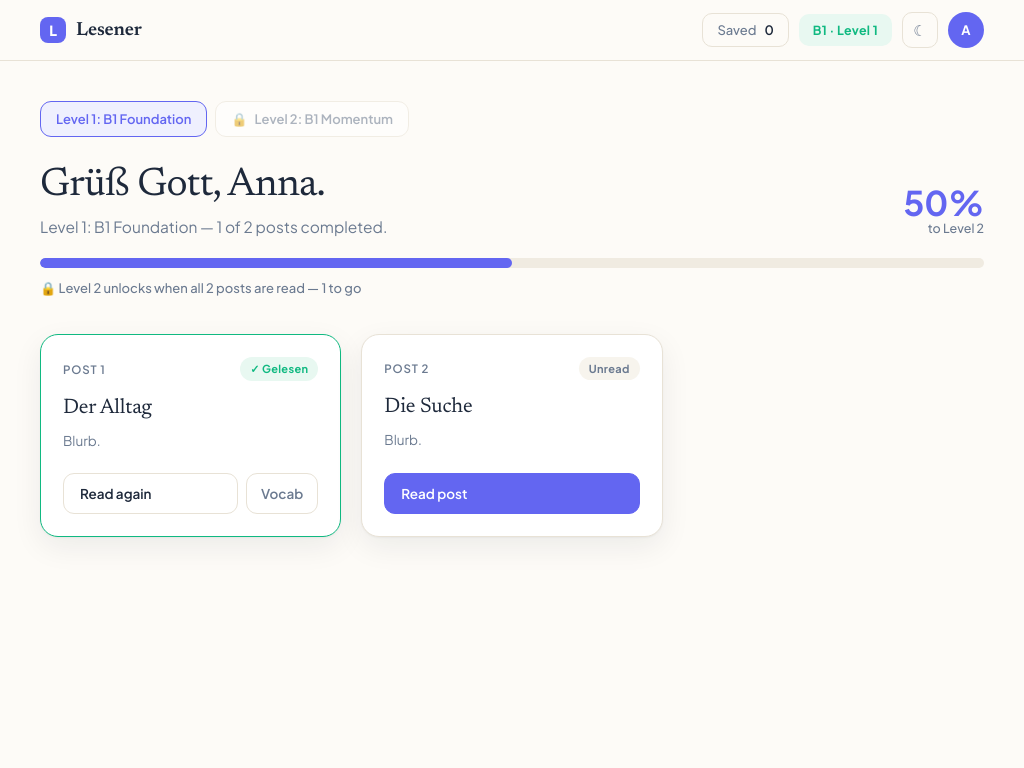
Test: a level that opens while the page is up › fetches the posts it could not see before, with no reload
Expected: the button "🔒 Level 2: B1 Momentum" is disabled, [215,101,409,137]
Click the button "Read post". click: (512, 493)
box: [384,473,640,514]
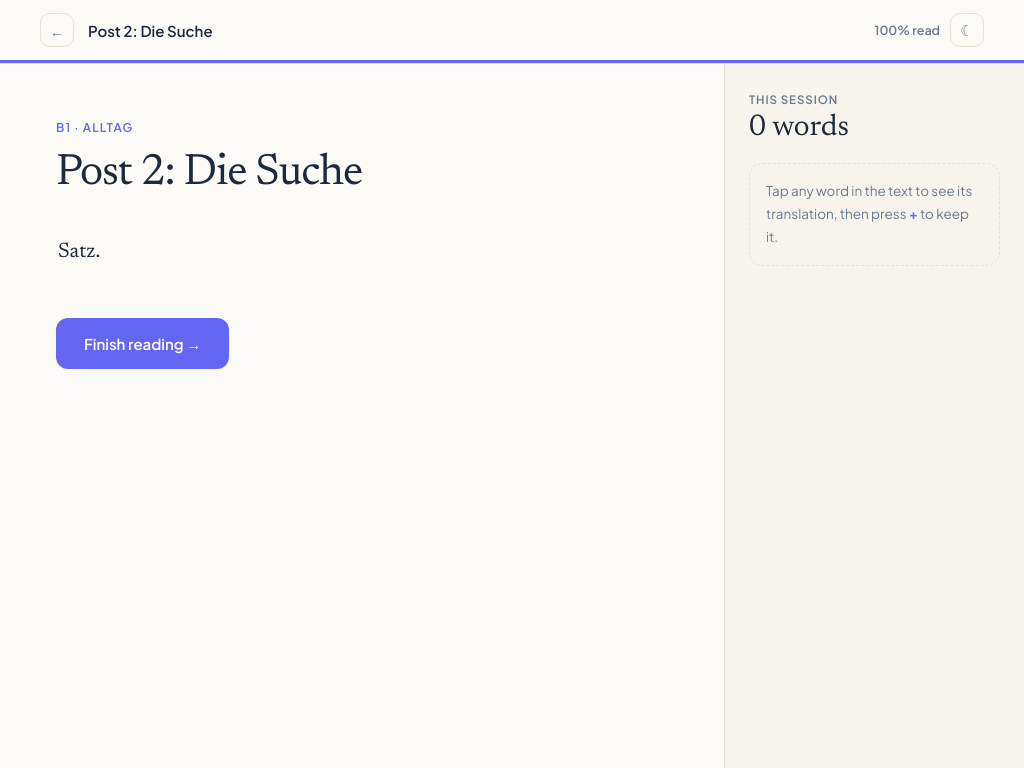
Click the button "Finish reading →". click: (143, 344)
box: [56,318,229,369]
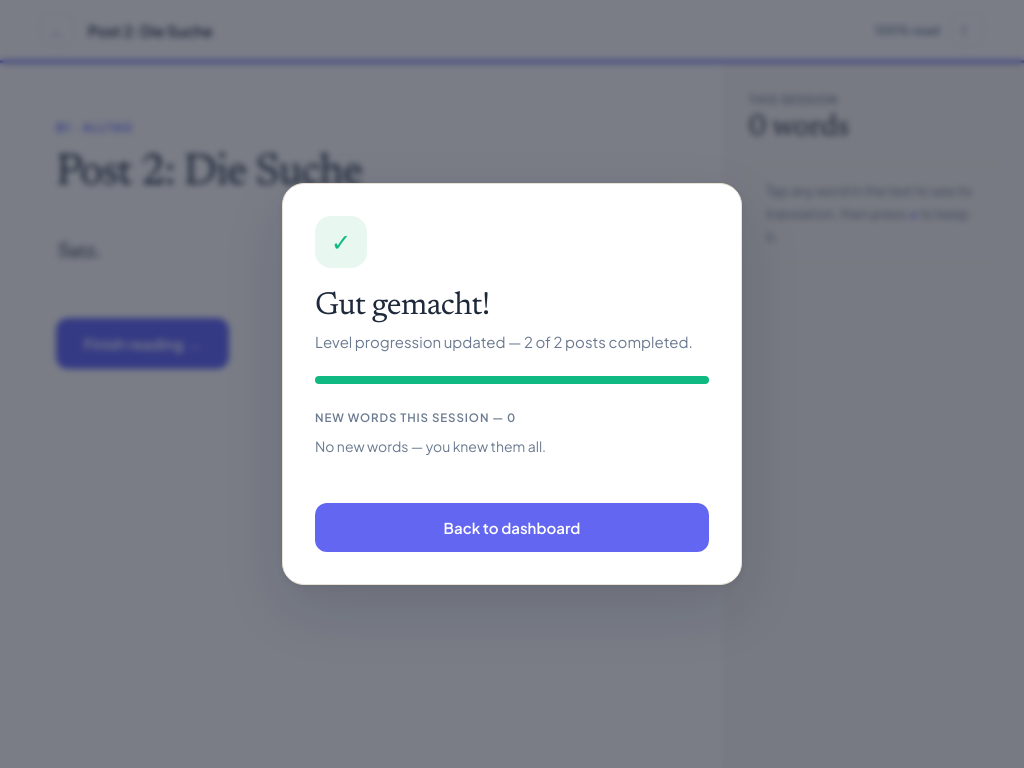
Click the button "Back to dashboard". click: (512, 528)
box: [315,503,709,552]
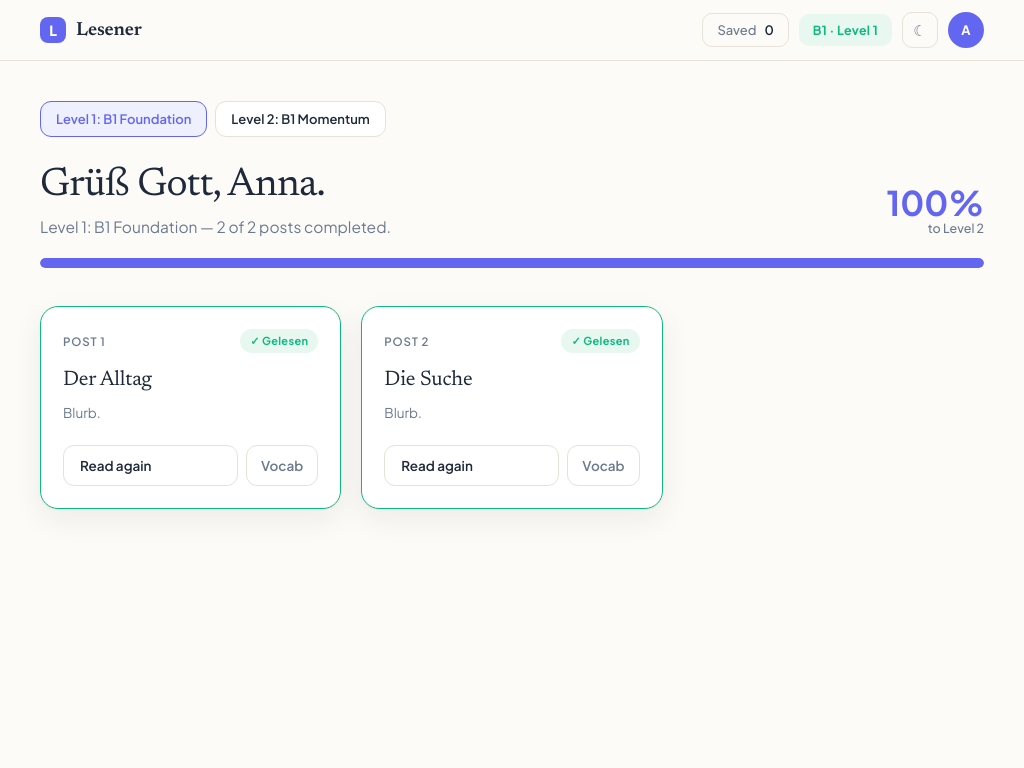
Result: the button "Level 2: B1 Momentum" is enabled
Click the button "Level 2: B1 Momentum". click: (301, 119)
box: [215,101,386,137]
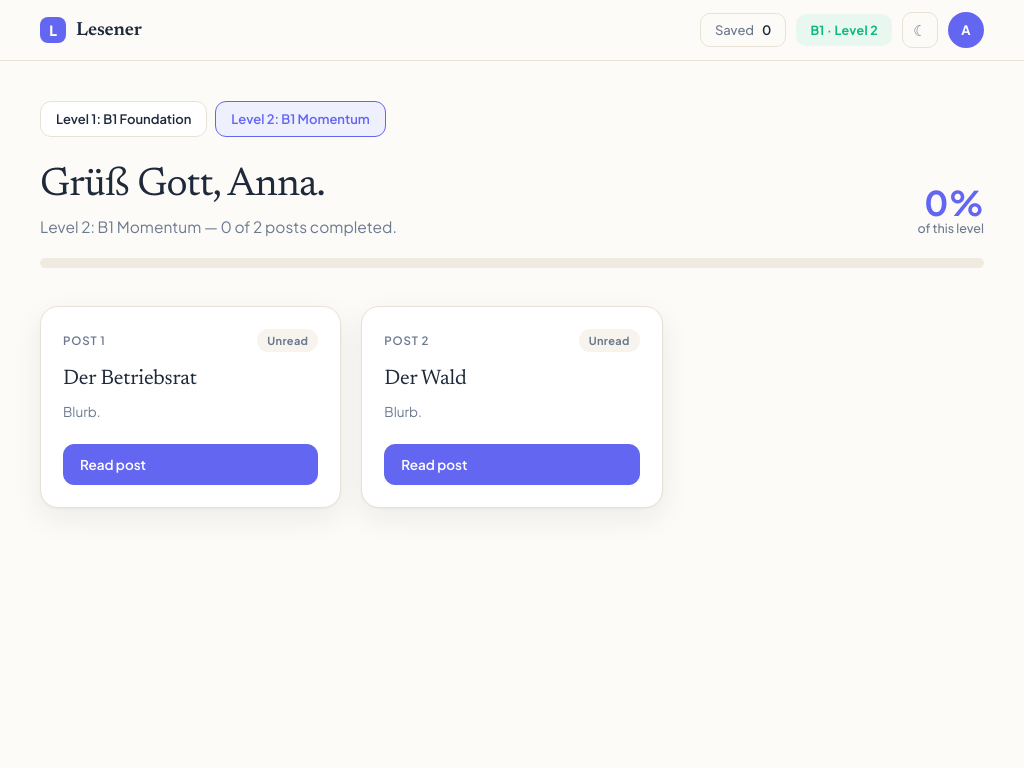
Result: the text "Der Betriebsrat" is shown at [63,369,197,390]
